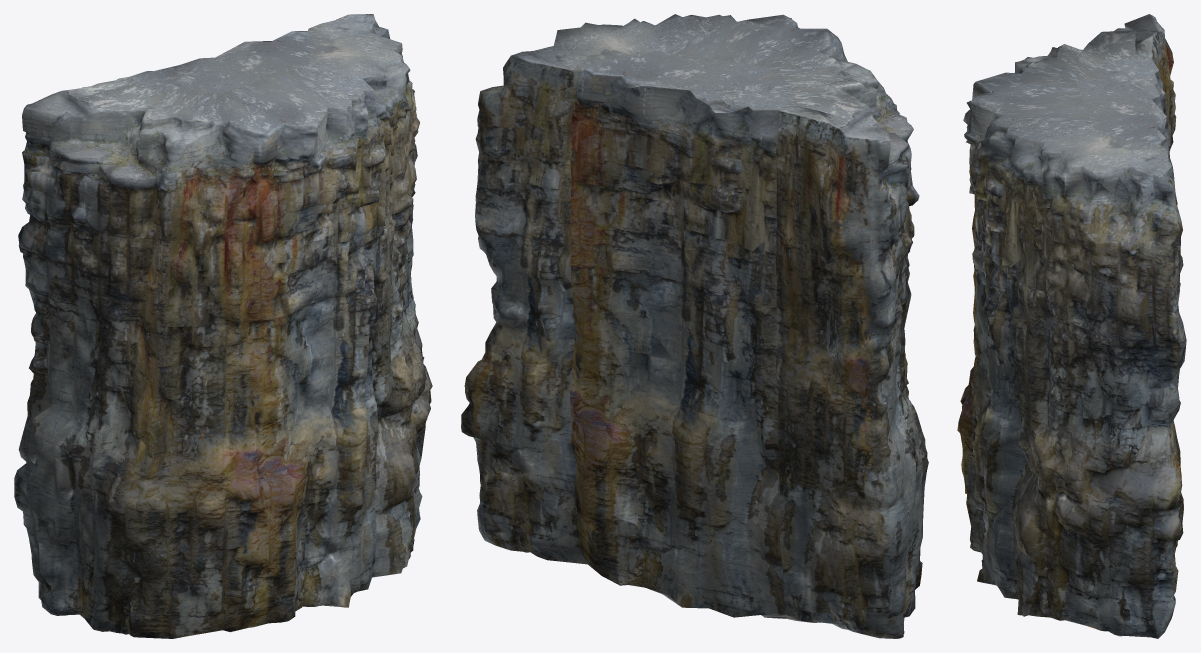
The model's file is SM_wall1_curved.fbx.
The picture shows the model from 3 angles, left to right: view 1: azimuth 30°, elevation 25°; view 2: azimuth 150°, elevation 25°; view 3: azimuth 270°, elevation 25°; orthographic projection. The views are drawn at different scales.
Visible parts, largest first — view 1: SM_wall1_curved; view 2: SM_wall1_curved; view 3: SM_wall1_curved.
Part boxes in pixels (x1=…): SM_wall1_curved: x1=14, y1=14, x2=432, y2=638; SM_wall1_curved: x1=461, y1=14, x2=928, y2=638; SM_wall1_curved: x1=957, y1=14, x2=1186, y2=638.
Bounding box in the file's own units: 3459 × 4082 × 1785.
